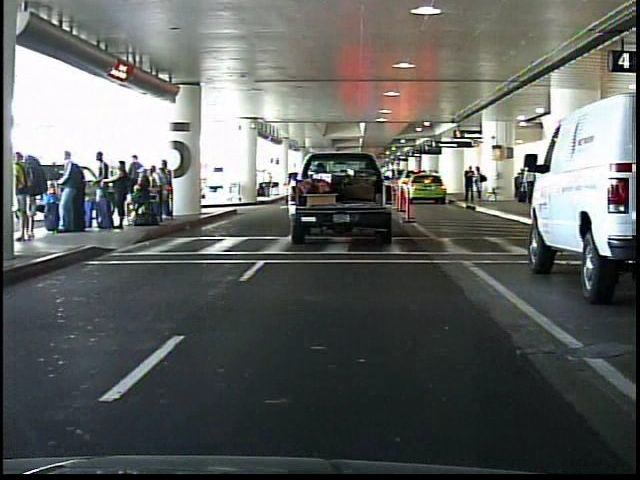person: (474, 165, 488, 203), (463, 165, 475, 203)
